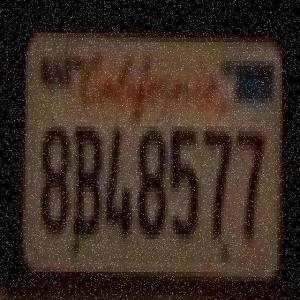Plate: (22, 28, 288, 285)
